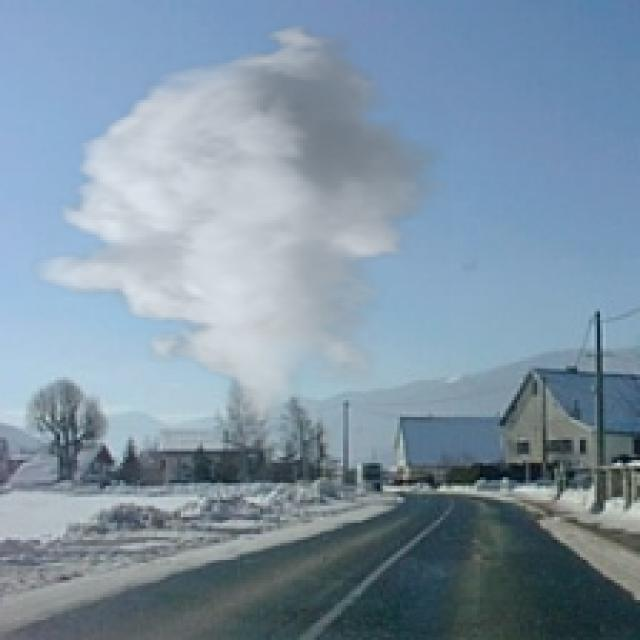smoke: (29, 20, 452, 423)
